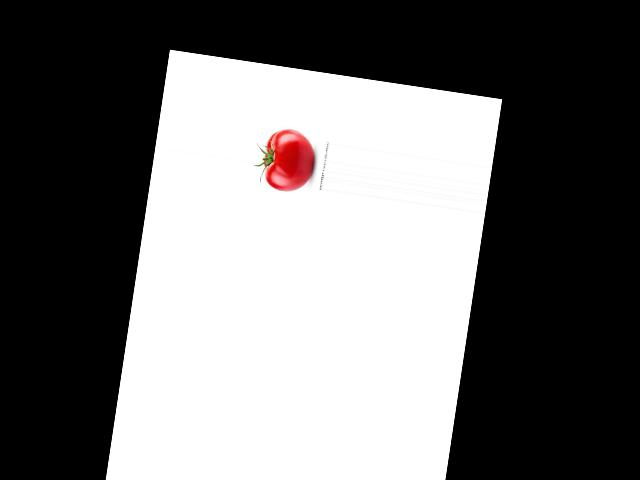tomato: (260, 126, 317, 195)
